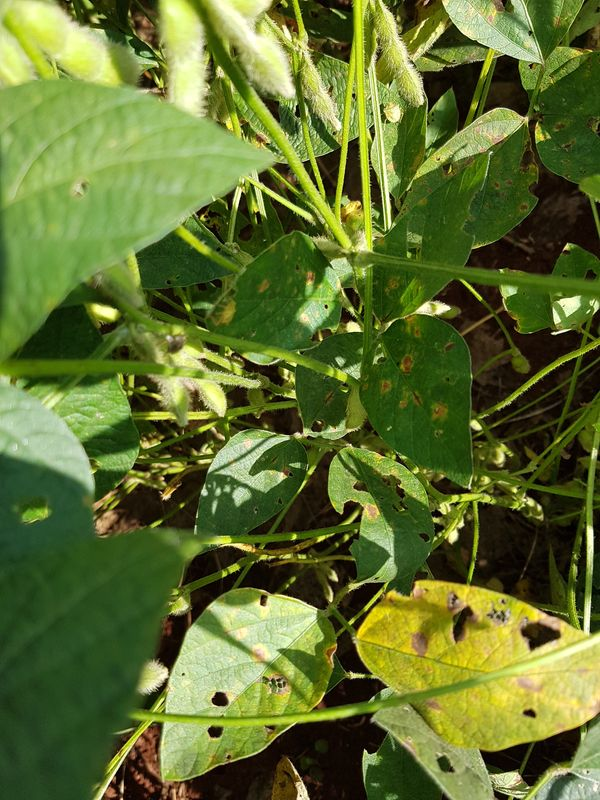Euschistus_heros_ninfa: (378, 98, 407, 130)
